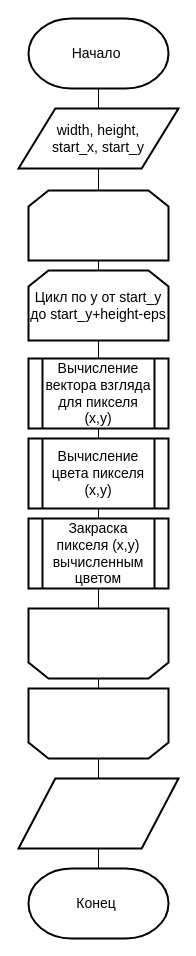
This 196x956 diagram has some shape labels left out. Each missing label, with the box of its shape:
Закрашенная часть изображения: (17, 777, 179, 849)
Конец цикла по x от start_x до start_x+ width -eps: (27, 687, 169, 759)
Конец цикла по y от start_y до start_y+ height -eps: (27, 607, 169, 679)
Цикл по x от start_x до start_x+ width-eps: (27, 189, 169, 261)
